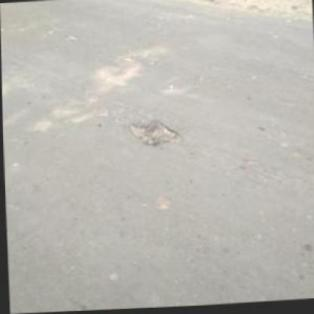Hueco: (127, 118, 183, 148)
